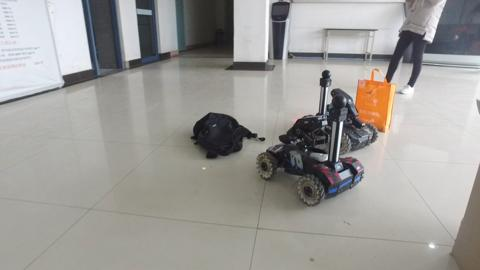bag: (355, 67, 395, 128)
chariot: (261, 96, 365, 204), (313, 66, 375, 150)
